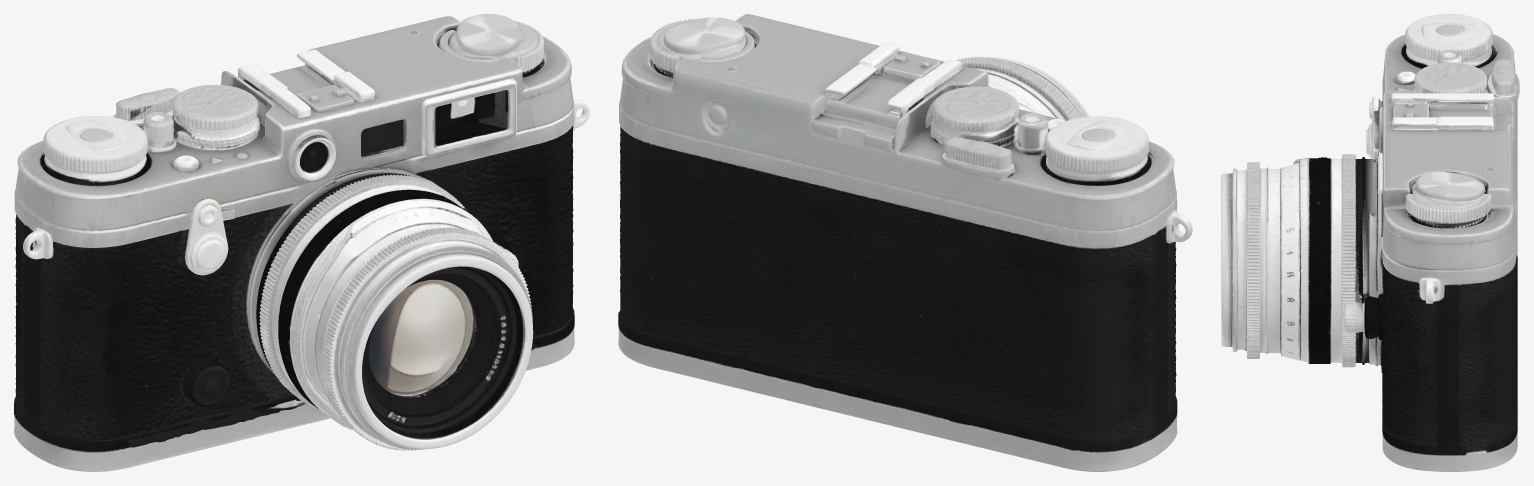
Rendered from ad-camera.glb.
3 views of the same model, side by side, from view 1: azimuth 30°, elevation 25°; view 2: azimuth 150°, elevation 25°; view 3: azimuth 270°, elevation 25° (orthographic). The views are drawn at different scales.
Size of the model in its own units: 1.9 by 1.01 by 1.04.
Materials: 1 (1 with a texture image).
